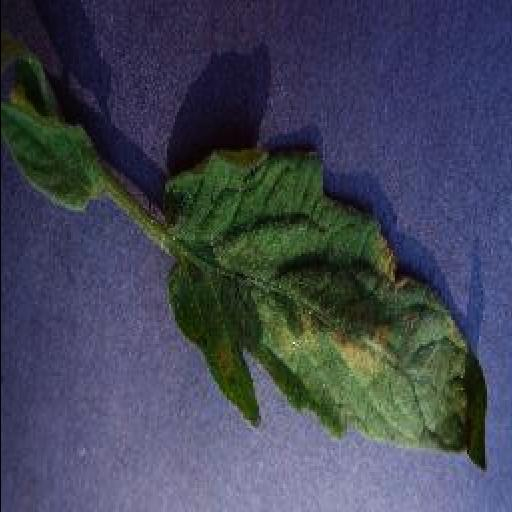disease_tomato: (160, 147, 488, 471)
